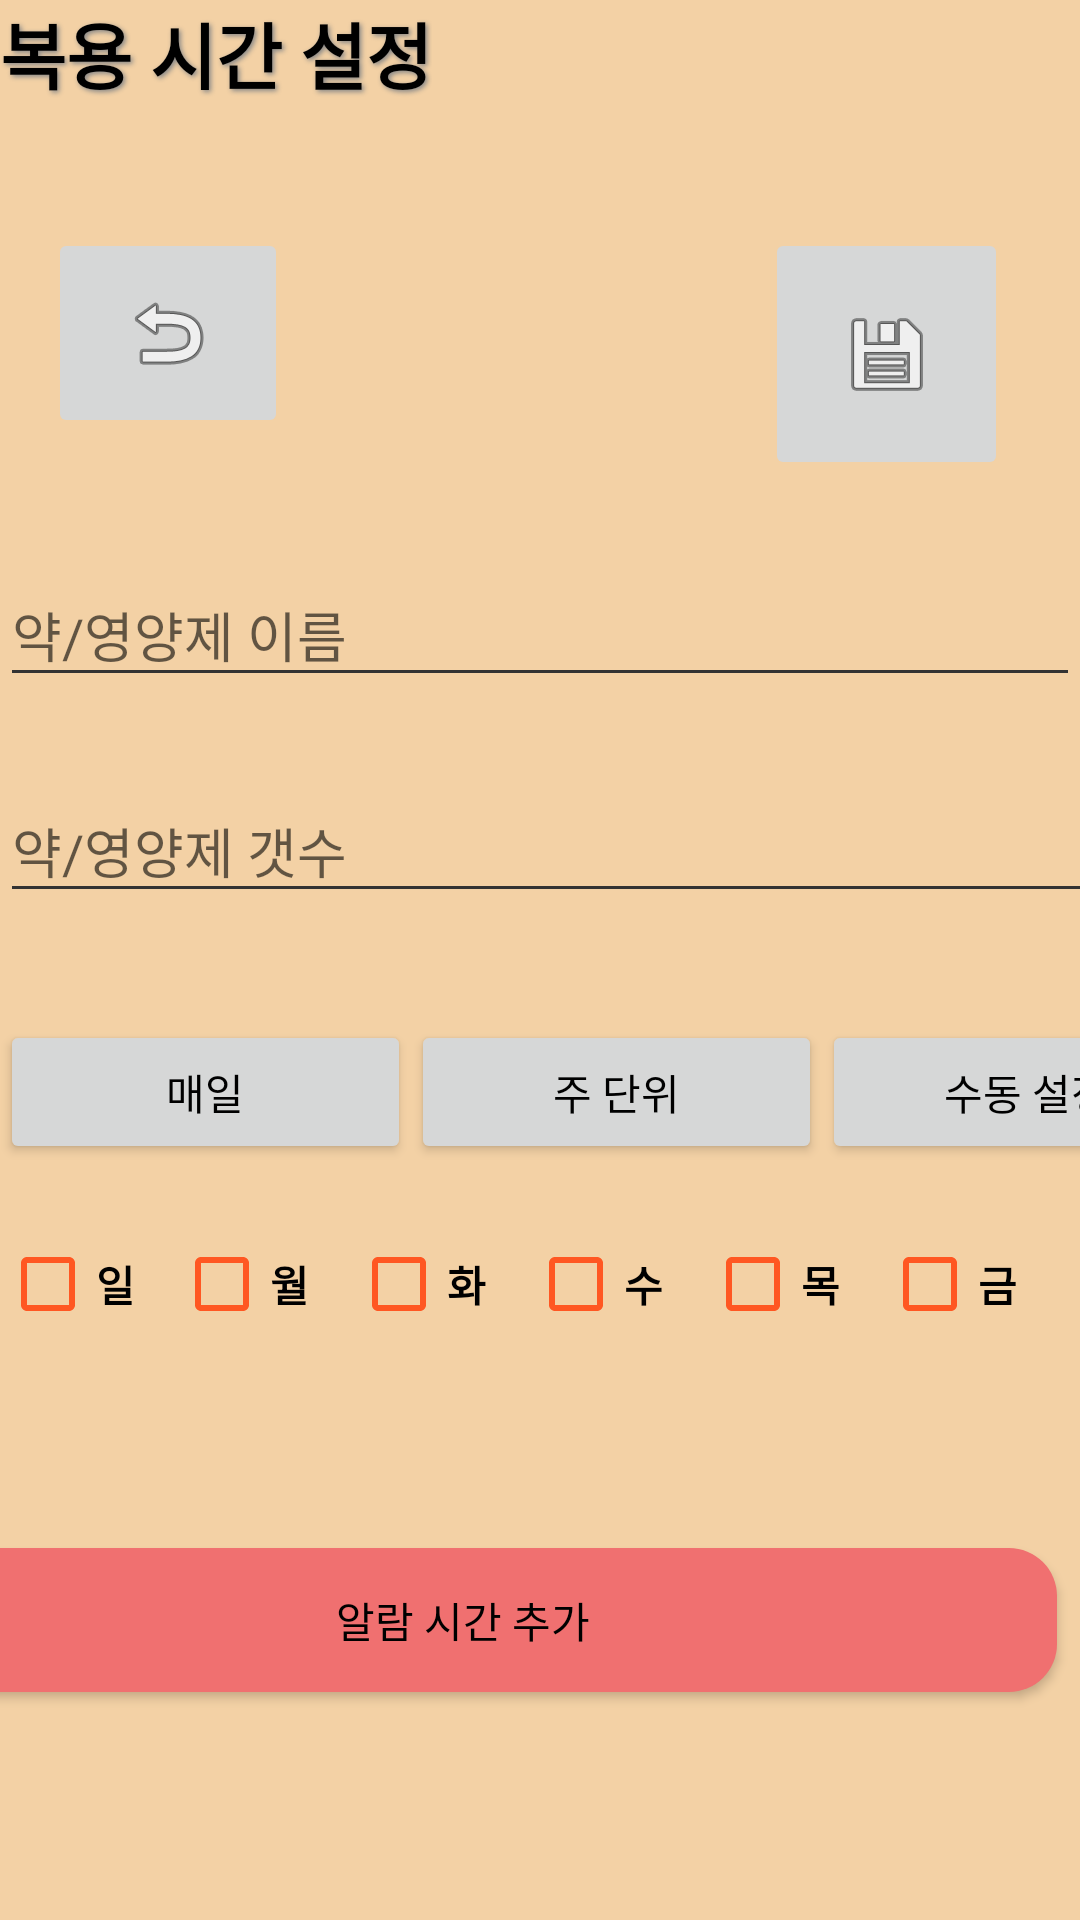

Icon click points for this 1080px×1920px phone screenshot, format [x,y]:
revert: [168,333]
save: [886,354]
